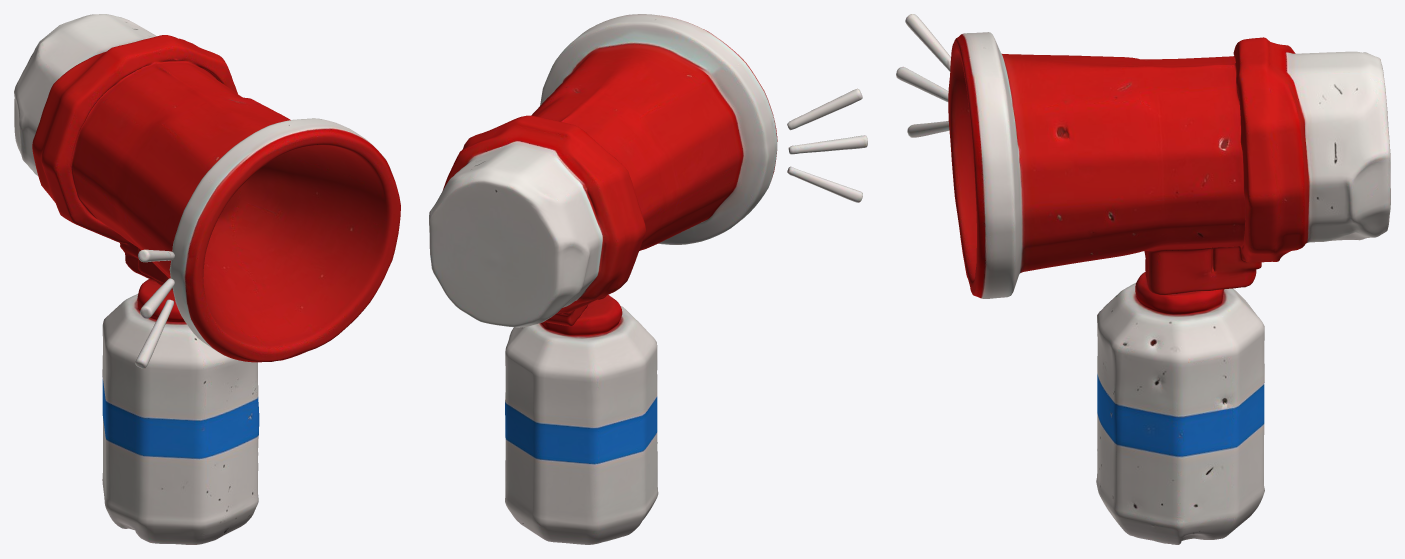
Rendered from item_air_blast.glb.
3 renders of one model, left to right at view 1: azimuth 30°, elevation 25°; view 2: azimuth 150°, elevation 25°; view 3: azimuth 270°, elevation 25°, orthographic. The views are drawn at different scales.
Parts seen in each view (by area): view 1: tripo_node_cd013ff0-a4ab-4211-a08b-940df897b388; view 2: tripo_node_cd013ff0-a4ab-4211-a08b-940df897b388; view 3: tripo_node_cd013ff0-a4ab-4211-a08b-940df897b388.
Part boxes in pixels (x1,y1,x2,y2): tripo_node_cd013ff0-a4ab-4211-a08b-940df897b388: (14,14,400,544); tripo_node_cd013ff0-a4ab-4211-a08b-940df897b388: (429,14,867,544); tripo_node_cd013ff0-a4ab-4211-a08b-940df897b388: (896,14,1390,544).
Size of the model in its own units: 0.6671 by 0.98 by 0.917.
1 material, 1 textured.
